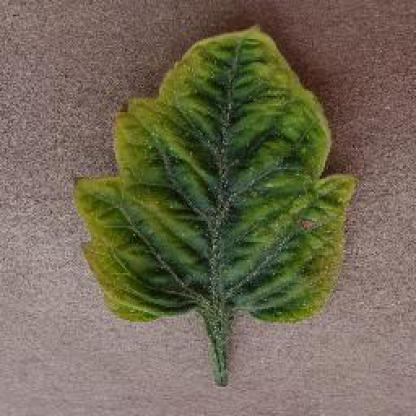bad leaf: (42, 17, 415, 411)
